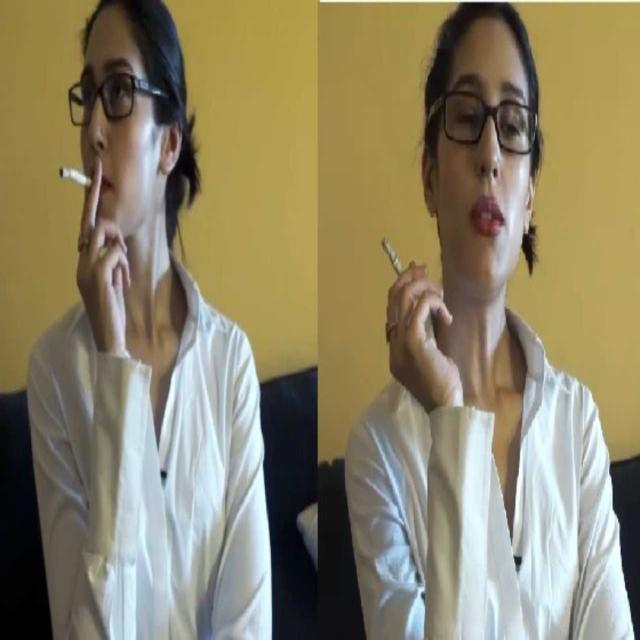Smooking: (54, 159, 97, 201), (373, 230, 408, 272)
